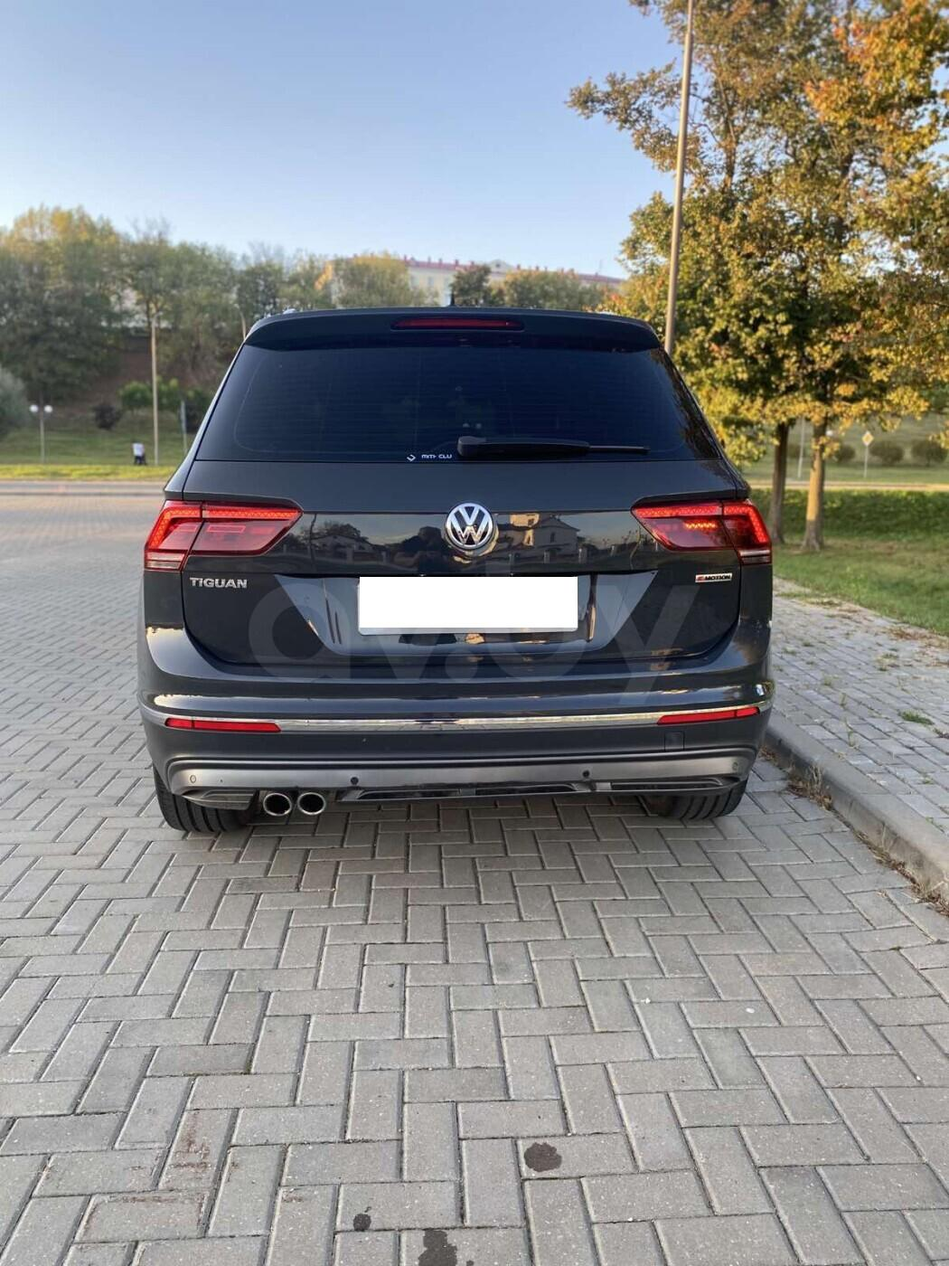Tiguan_2016-2021: (132, 298, 785, 839)
